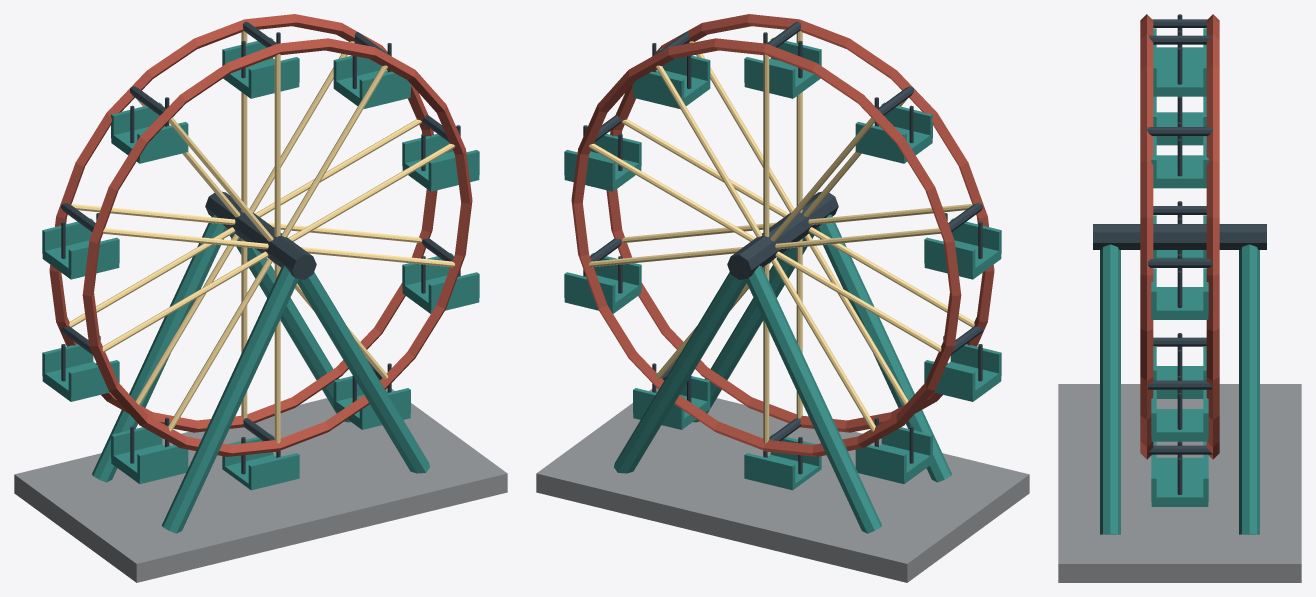
Rendered from ferris_wheel.glb.
3 renders of one model, left to right at view 1: azimuth 30°, elevation 25°; view 2: azimuth 150°, elevation 25°; view 3: azimuth 270°, elevation 25°, orthographic.
Parts seen in each view (by area): view 1: base, rim, rim.001, support, support.001, support.002, axle, support.003, gondola_side.010, spoke.001, gondola_side.012, spoke.006 (+38 smaller); view 2: base, rim.001, rim, support.002, support.003, support, axle, support.001, gondola_side.011, gondola_side.013, spoke.011, spoke.016 (+38 smaller); view 3: base, support.001, support.003, rim, rim.001, axle, gondola_seat.001, gondola_seat, gondola_seat.004, gondola_seat.003, gondola_seat.002, gondola_seat.006 (+12 smaller).
Boxes of the visible parts, x1,y1,x2,y2 form: base: (14,388,507,582); rim: (82,38,472,456); rim.001: (49,14,437,432); support: (162,265,298,533); support.001: (297,272,429,473); support.002: (92,214,227,482); axle: (205,191,316,279); support.003: (229,233,350,422); gondola_side.010: (248,453,299,490); spoke.001: (281,65,387,237); gondola_side.012: (137,445,188,479); spoke.006: (168,258,272,431); base: (536,388,1029,582); rim.001: (571,38,961,456); rim: (606,14,994,432); support.002: (745,265,881,533); support.003: (614,272,746,473); support: (816,214,951,482); axle: (727,191,838,279); support.001: (693,233,814,422); gondola_side.011: (744,453,795,490); gondola_side.013: (855,445,906,479); spoke.011: (656,65,762,237); spoke.016: (771,258,875,431); base: (1058,384,1301,582); support.001: (1100,244,1120,534); support.003: (1239,244,1259,534); rim: (1140,14,1153,459); rim.001: (1206,14,1219,459); axle: (1093,224,1266,249); gondola_seat.001: (1153,155,1206,188); gondola_seat: (1153,63,1206,96); gondola_seat.004: (1151,474,1208,506); gondola_seat.003: (1151,409,1208,441); gondola_seat.002: (1151,287,1208,319); gondola_seat.006: (1154,366,1205,398).
Size of the model in its own units: 5.4 by 5.83 by 2.8.
